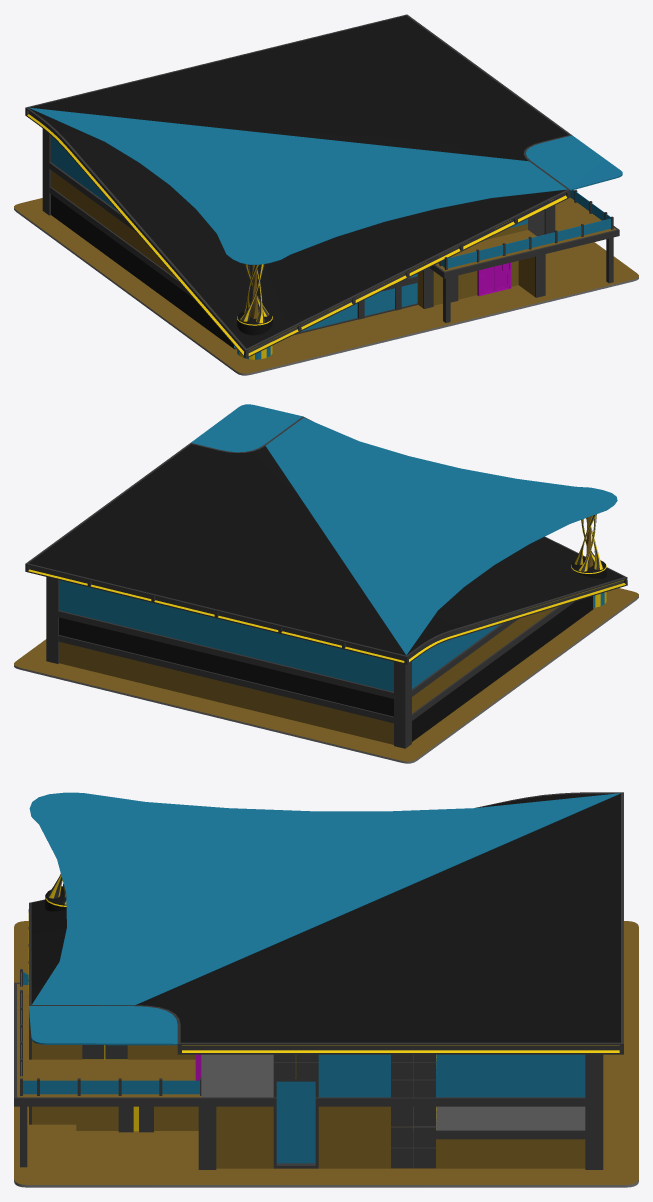
Rendered from SM_MK10_Building_Base_001.fbx.
The picture shows the model from 3 angles, top to bottom: view 1: azimuth 30°, elevation 25°; view 2: azimuth 150°, elevation 25°; view 3: azimuth 270°, elevation 25°; orthographic projection. The views are drawn at different scales.
Visible parts, largest first — view 1: SM_MK10_Building_Base_001; view 2: SM_MK10_Building_Base_001; view 3: SM_MK10_Building_Base_001.
Part boxes in pixels (<box>): SM_MK10_Building_Base_001: <box>14,14,638,375</box>; SM_MK10_Building_Base_001: <box>14,404,638,763</box>; SM_MK10_Building_Base_001: <box>14,792,638,1187</box>.
Bounding box in the file's own units: 2100 × 512 × 2100.
